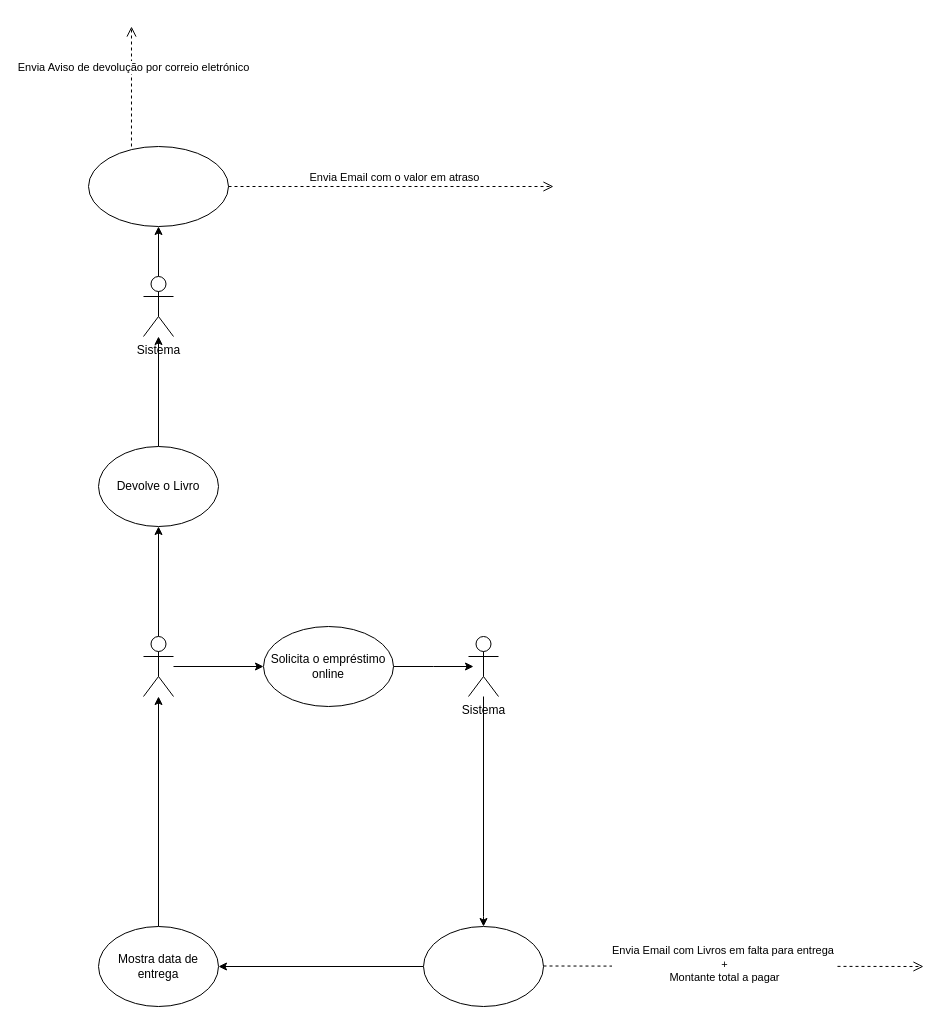
This 951x1024 diagram has some shape labels left out. The shapes that lost their labels are listed below. From the top down, each one's box as (x1, y1, x2, y2) in pixels, then its label:
(88, 146, 228, 226): Valida a data limite do empréstimo
(142, 636, 174, 696): Aluno
(422, 926, 544, 1006): Valida os dados inseridos
